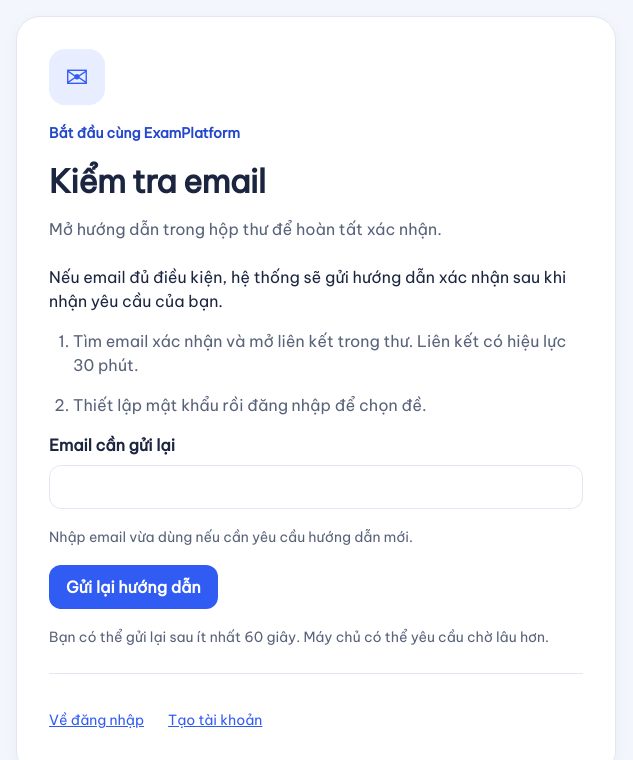
Test: email resend feedback › uses the server cooldown without announcing acceptance
The image size is (633, 760).
Type "person@example.test" into the field labelled "Email cần gửi lại" at (316, 487), box [49, 465, 583, 509]
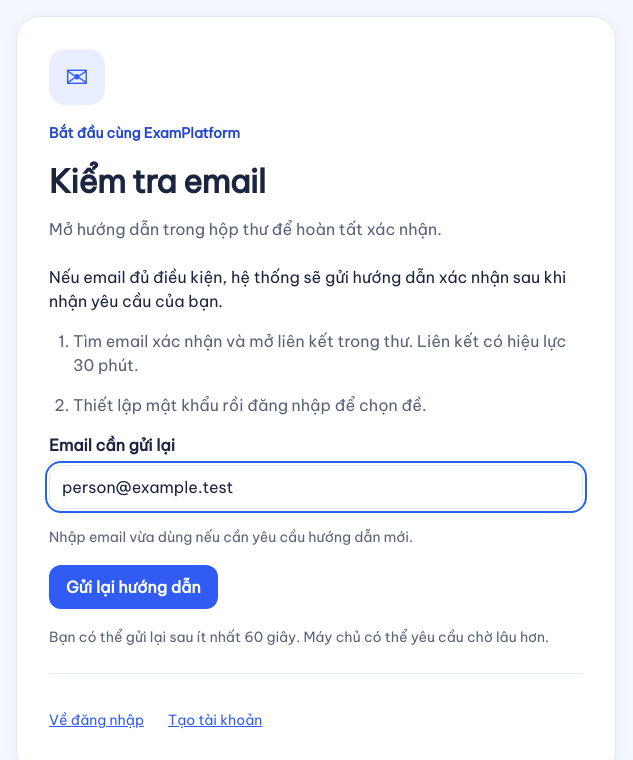
Click the button "Gửi lại hướng dẫn" at (133, 587), box [49, 565, 218, 609]
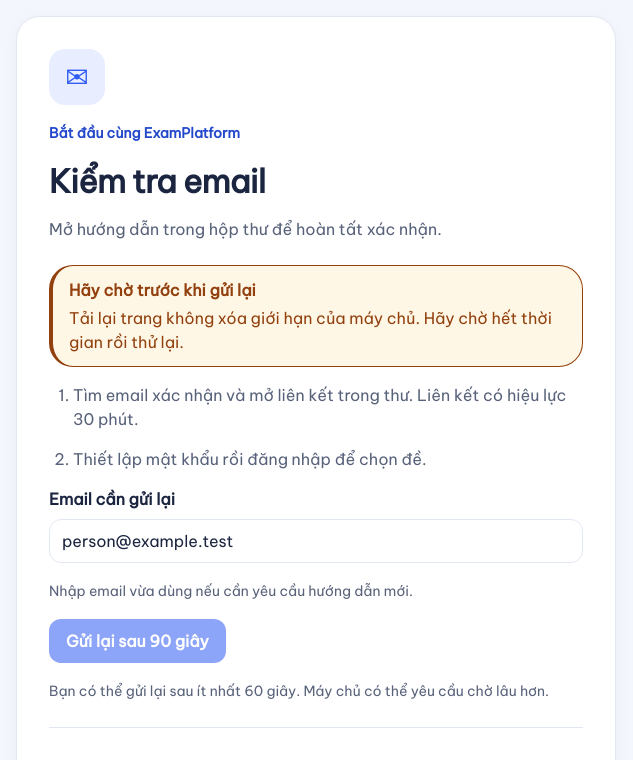
Expected: the text "Hãy chờ trước khi gửi lại" is shown, [69, 280, 256, 300]
Expected: the button "Gửi lại sau 90 giây" is disabled, [49, 619, 226, 663]
